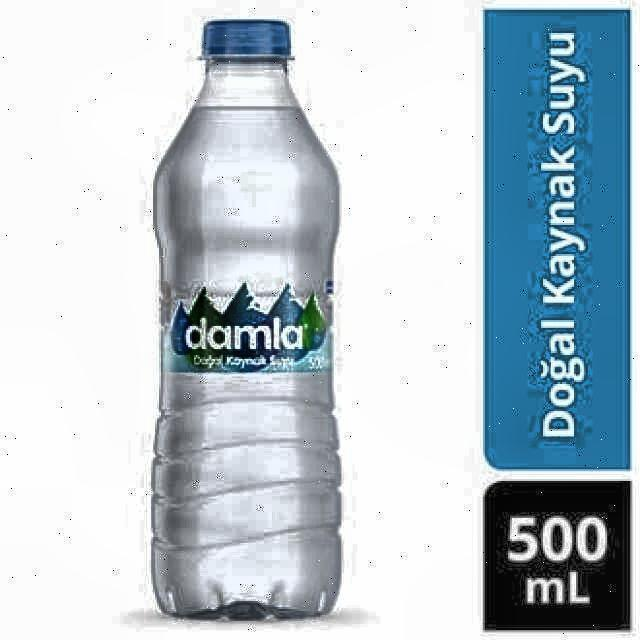plastic: (148, 16, 343, 625)
